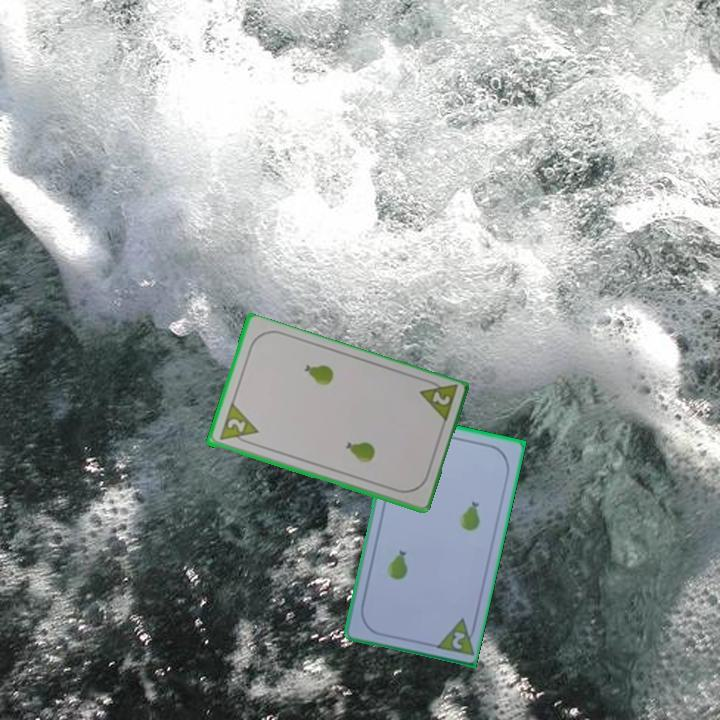2p: (415, 375, 460, 427), (215, 401, 261, 449), (448, 628, 468, 652)
